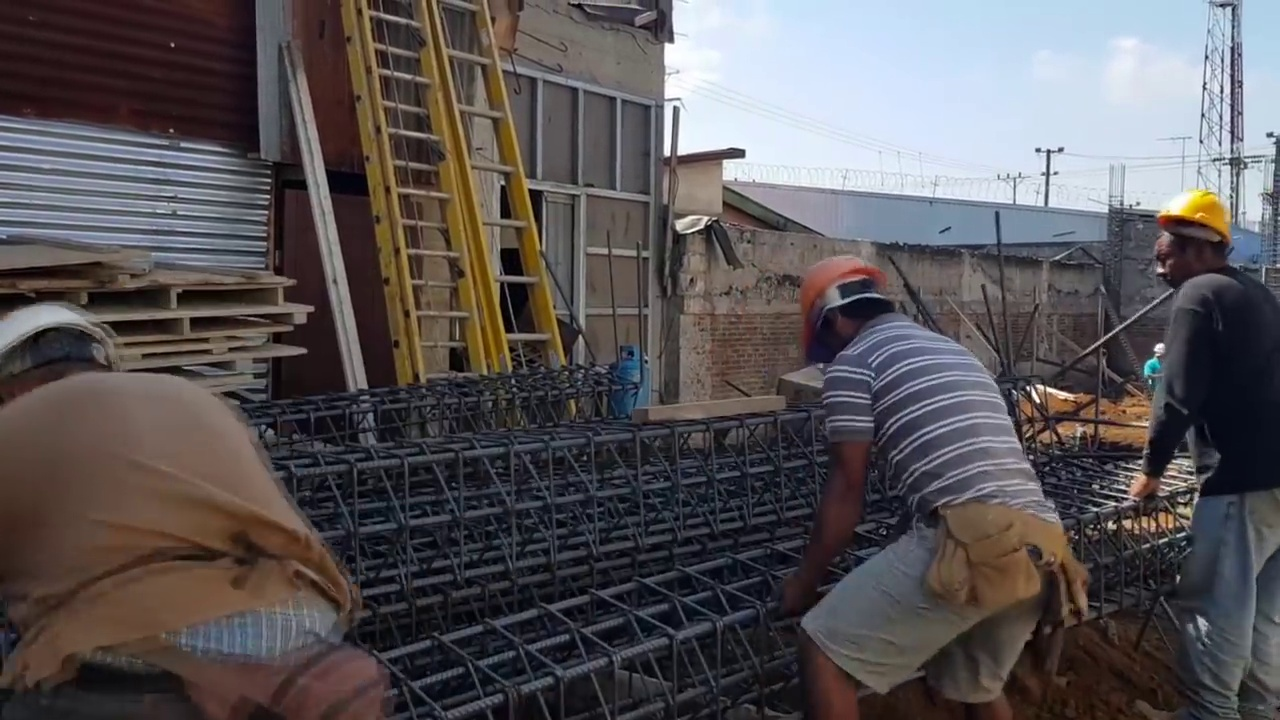helmet: (799, 258, 895, 332), (1158, 188, 1240, 242), (1152, 345, 1168, 354)
helmet-on: (0, 305, 117, 398), (797, 261, 901, 358), (1165, 192, 1241, 284), (1152, 346, 1167, 361)
person: (762, 239, 1085, 720), (0, 319, 371, 720), (1139, 179, 1272, 688), (1144, 345, 1171, 402)
